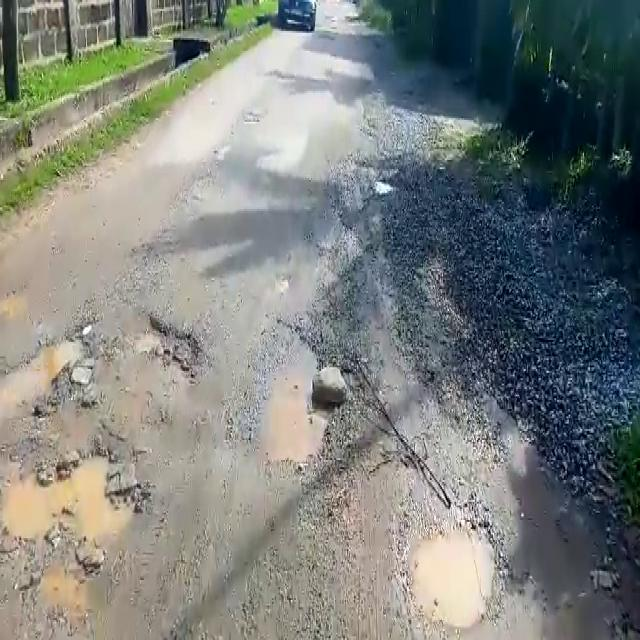Pothole: (4, 448, 150, 542), (405, 521, 502, 627), (253, 335, 331, 465), (2, 313, 100, 413), (136, 312, 200, 386)
